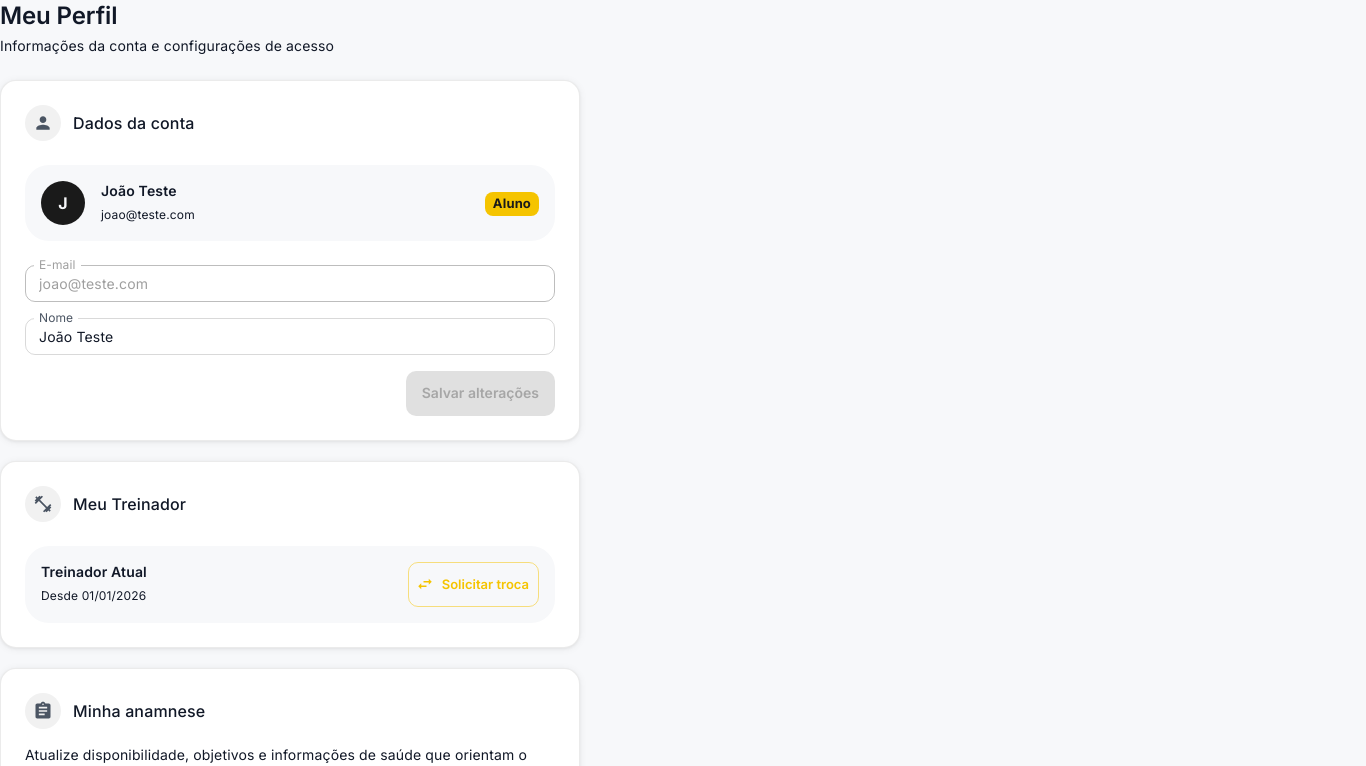
Test: /perfil — troca de treinador › erro ao carregar treinadores exibe banner
Click the button "Solicitar troca" at (473, 584), box [408, 562, 539, 607]
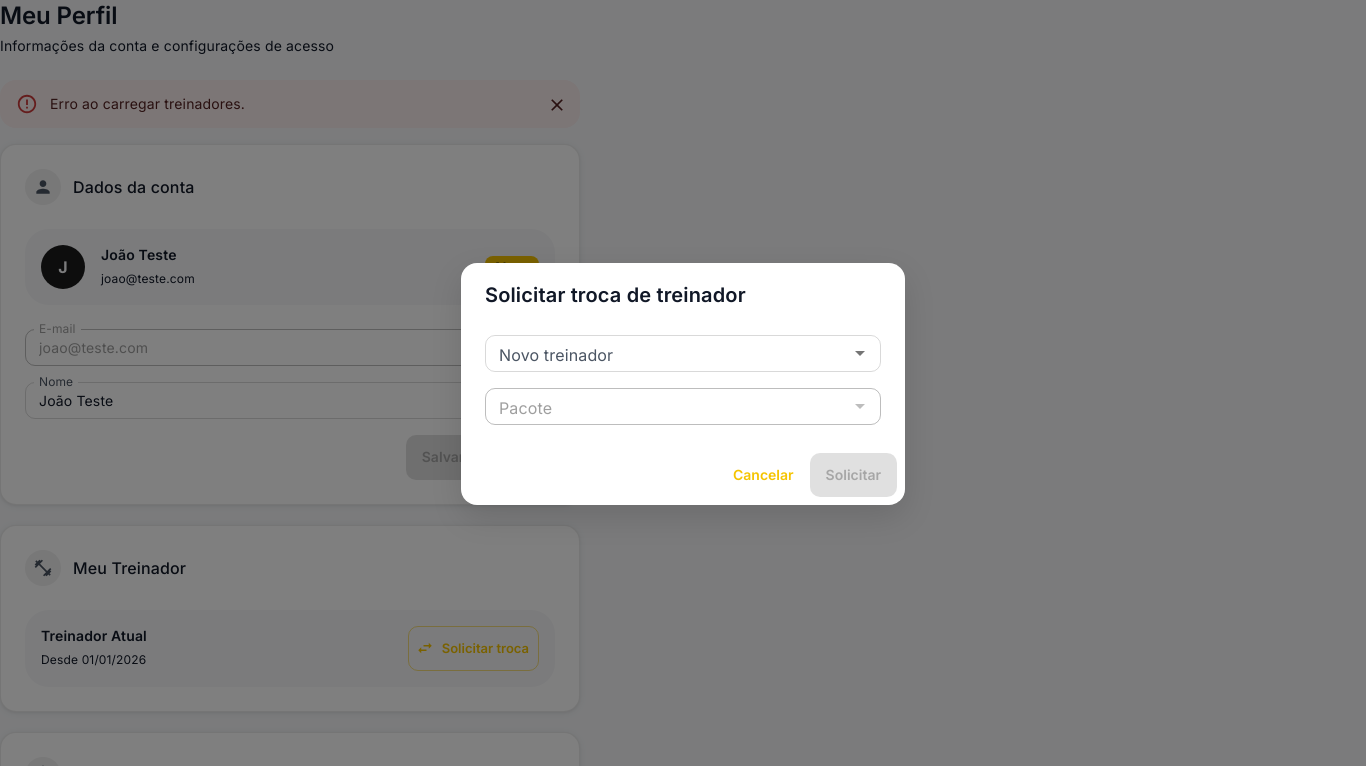
Now the text "Erro ao carregar treinadores." is shown, box [50, 95, 245, 112]
